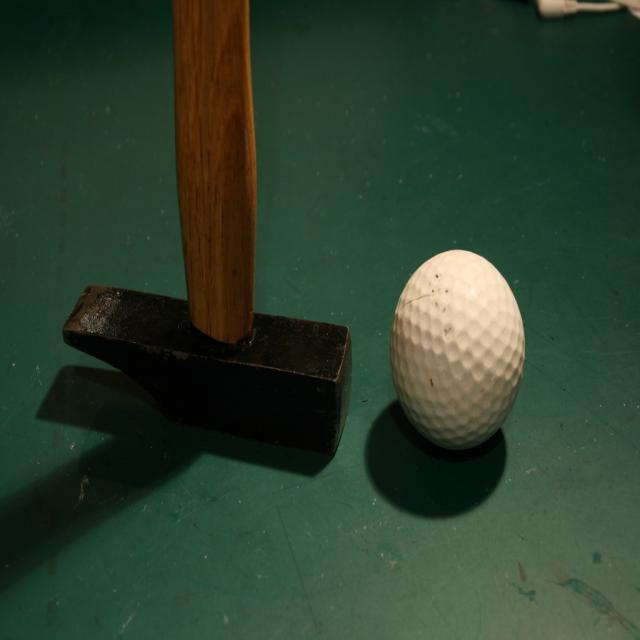hammer: (61, 0, 352, 441)
